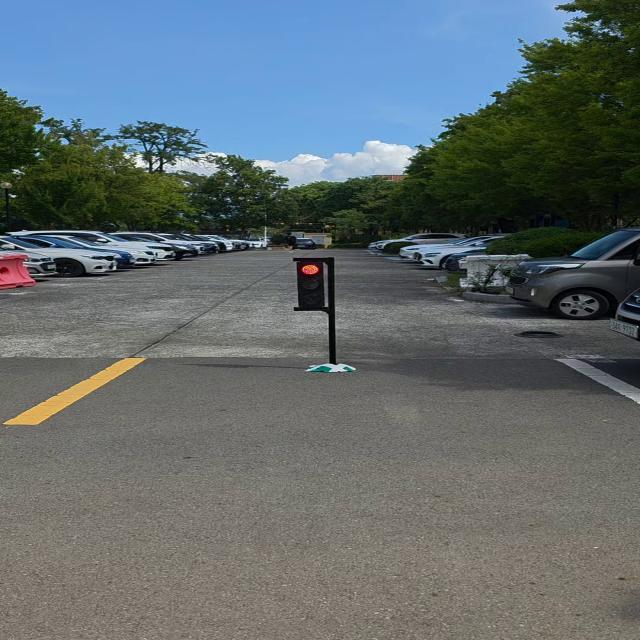red: (288, 255, 339, 313)
